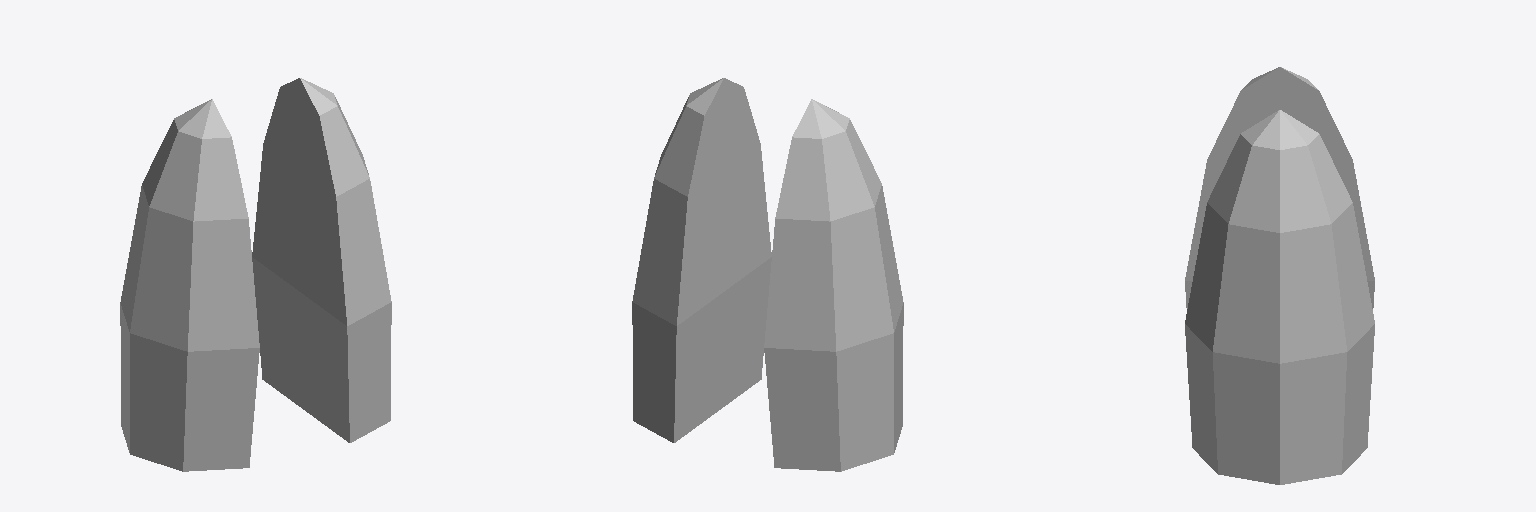
The model's file is boosters.obj.
3 renders of one model, left to right at view 1: azimuth 30°, elevation 25°; view 2: azimuth 150°, elevation 25°; view 3: azimuth 270°, elevation 25°, orthographic.
Visible parts, largest first — view 1: boosters_Sphere.006; view 2: boosters_Sphere.006; view 3: boosters_Sphere.006.
Boxes of the visible parts, <box> form: boosters_Sphere.006: <box>120,78,391,471</box>; boosters_Sphere.006: <box>632,78,903,471</box>; boosters_Sphere.006: <box>1185,67,1374,484</box>.
Size of the model in its own units: 2.83 by 3.59 by 1.85.